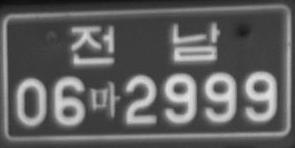0: (16, 76, 47, 127)
2: (125, 73, 157, 125)
6: (53, 76, 85, 127)
9: (243, 70, 278, 122), (203, 70, 237, 123), (163, 72, 197, 124)
마: (90, 79, 120, 118)
전남_D: (70, 22, 220, 66)
